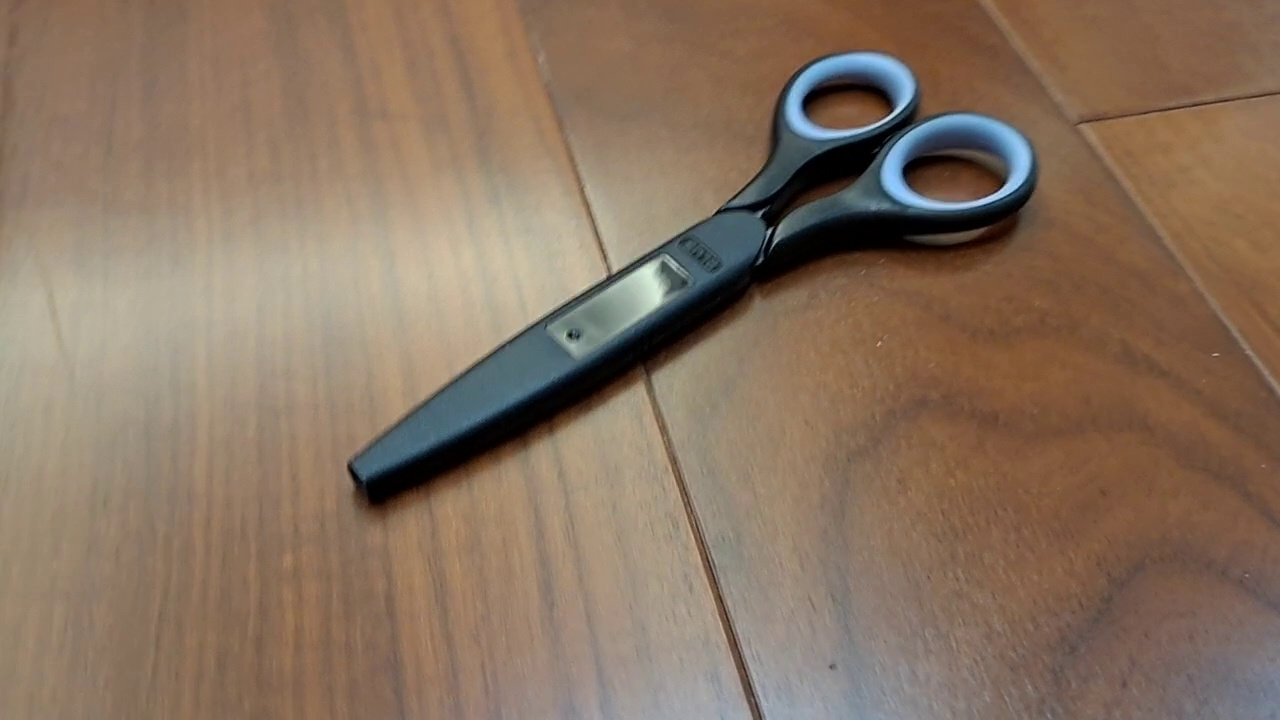scissors: (346, 47, 1039, 508)
